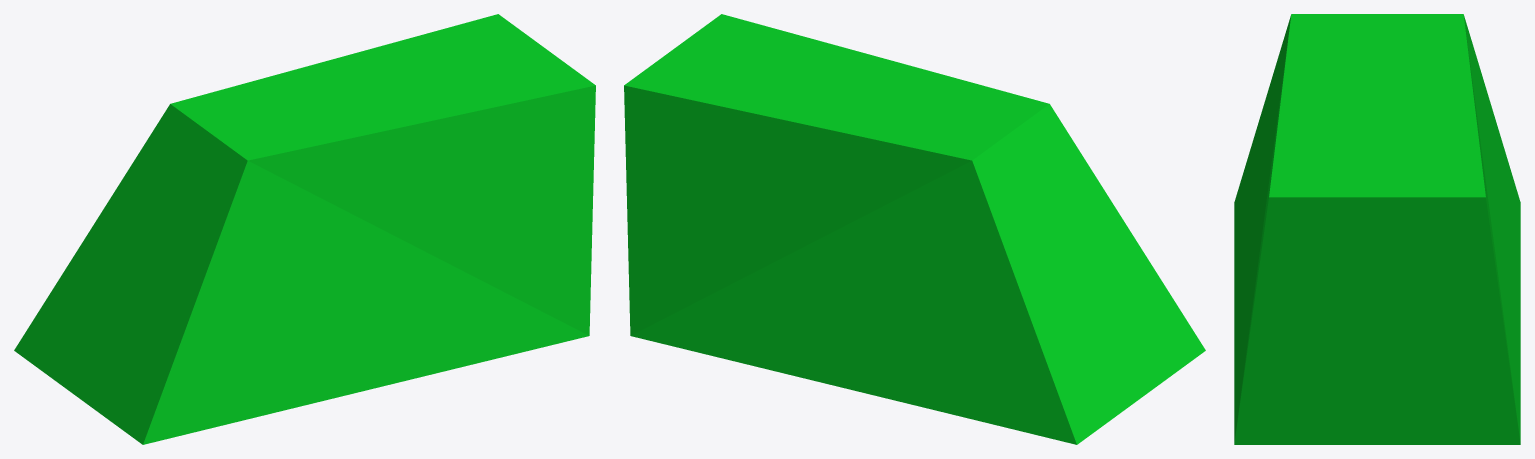
File: car01.dae
3 views of the same model, side by side, from view 1: azimuth 30°, elevation 25°; view 2: azimuth 150°, elevation 25°; view 3: azimuth 270°, elevation 25° (orthographic). The views are drawn at different scales.
Parts seen in each view (by area): view 1: car00; view 2: car00; view 3: car00.
Boxes of the visible parts, x1=… form: car00: x1=14, y1=14, x2=595, y2=444; car00: x1=624, y1=14, x2=1205, y2=444; car00: x1=1234, y1=14, x2=1520, y2=444.
Size of the model in its own units: 2.1 by 1 by 1.
